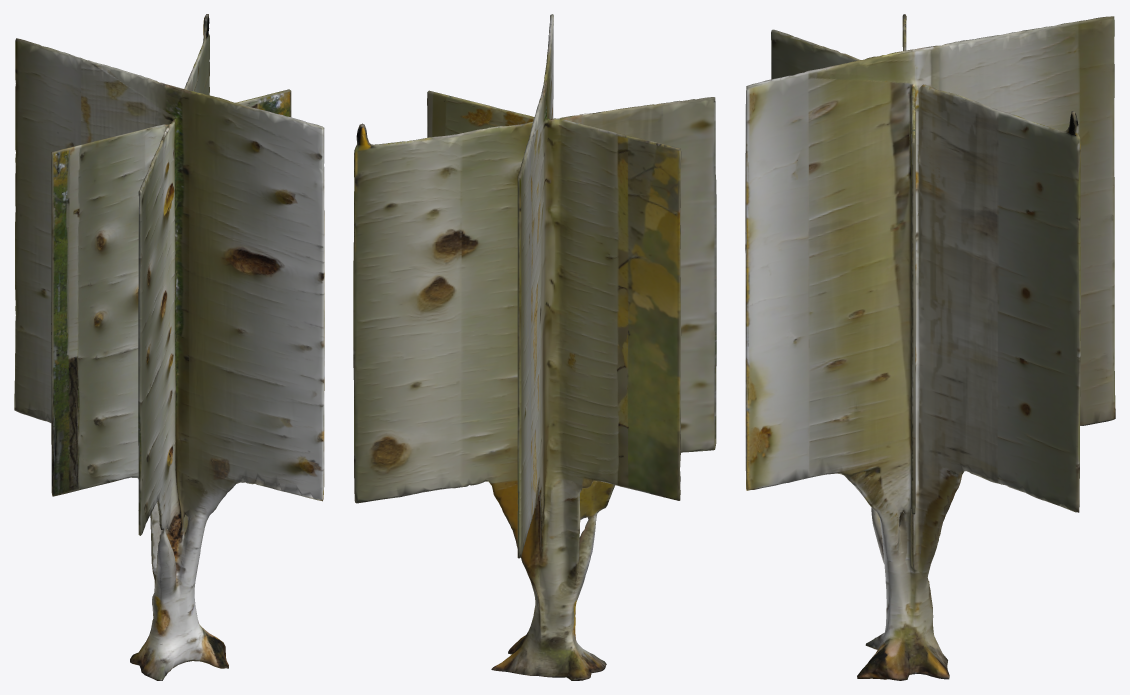
File: AI_QuakingAspen05.fbx
3 views of the same model, side by side, from view 1: azimuth 30°, elevation 25°; view 2: azimuth 150°, elevation 25°; view 3: azimuth 270°, elevation 25° (orthographic). The views are drawn at different scales.
Parts seen in each view (by area): view 1: Mesh1.0; view 2: Mesh1.0; view 3: Mesh1.0.
Boxes of the visible parts, x1,y1,x2,y2 form: Mesh1.0: [14, 14, 324, 680]; Mesh1.0: [353, 14, 716, 680]; Mesh1.0: [745, 14, 1115, 680].
Bounding box in the file's own units: 89.7 × 200 × 109.
Materials: 1 (1 with a texture image).
